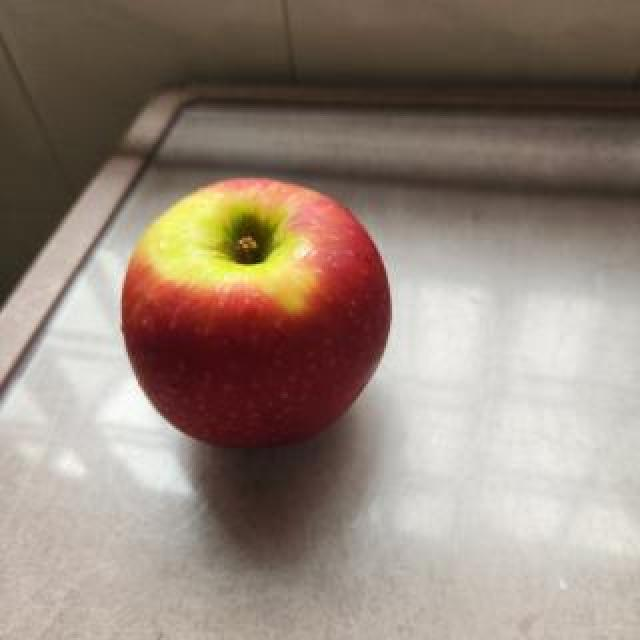Fresh Apple: (126, 174, 389, 443)
